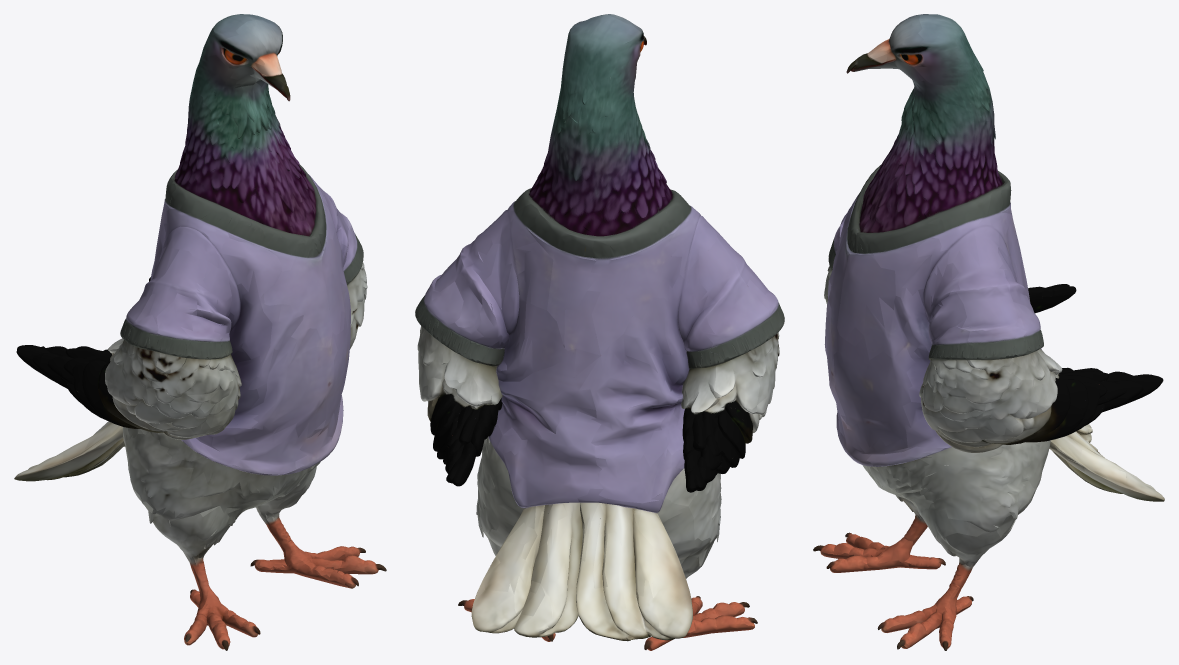
Rendered from pigeons_30k.glb.
3 views of the same model, side by side, from view 1: azimuth 30°, elevation 25°; view 2: azimuth 150°, elevation 25°; view 3: azimuth 270°, elevation 25° (orthographic). The views are drawn at different scales.
Visible parts, largest first — view 1: output_unwrapped; view 2: output_unwrapped; view 3: output_unwrapped.
Boxes of the visible parts, left/top/right/bottom form: output_unwrapped: left=14, top=14, right=386, bottom=650; output_unwrapped: left=415, top=14, right=784, bottom=650; output_unwrapped: left=813, top=14, right=1164, bottom=650.
Bounding box in the file's own units: 1.03 × 1.9 × 1.06.
1 material, 1 textured.
